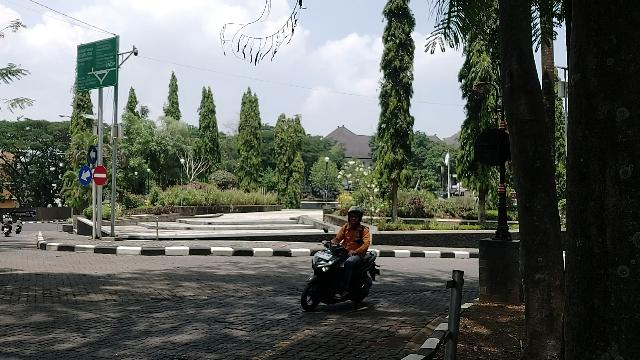helm: (348, 207, 364, 225)
motor: (302, 245, 381, 312)
